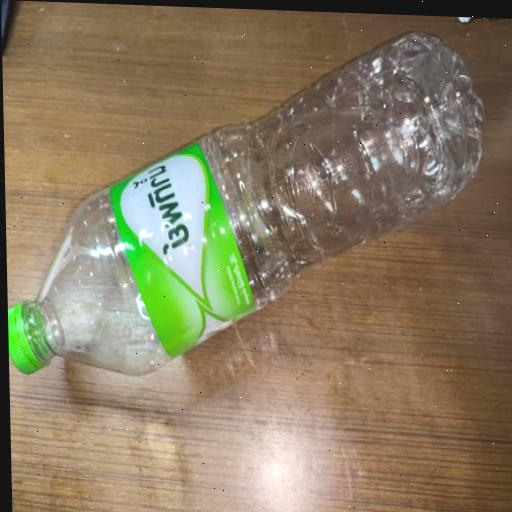bottle: (0, 6, 496, 400)
